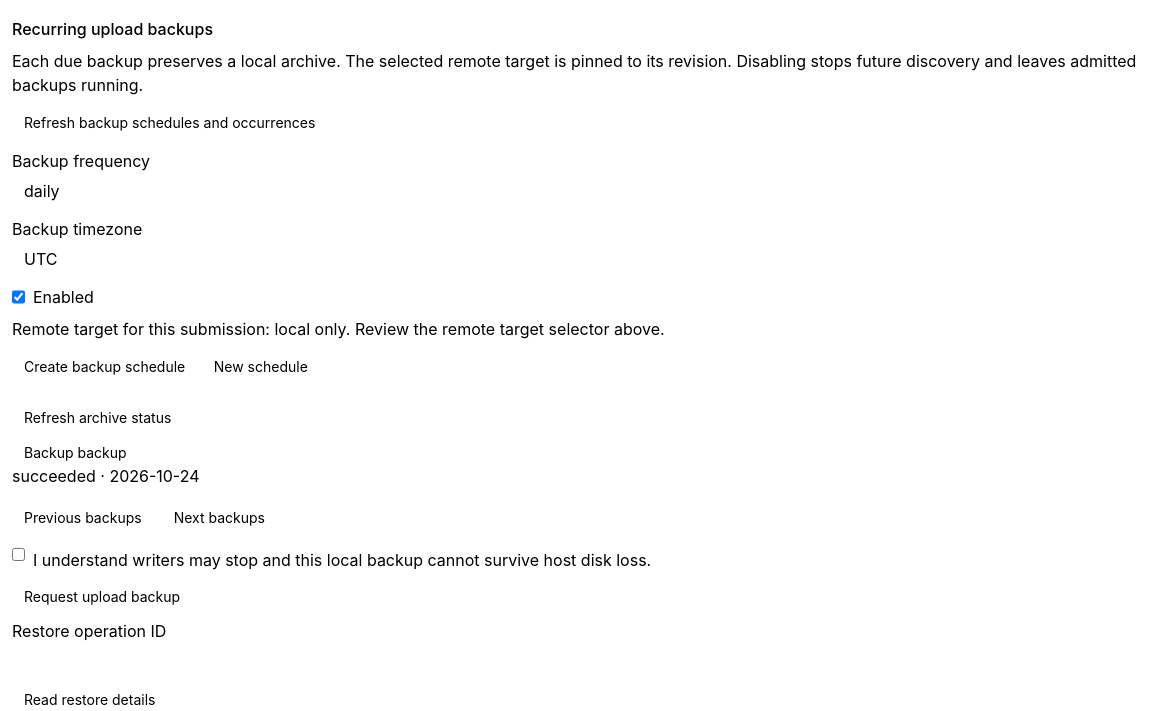
Test: owner explicitly consents to local backup; no mutation happens during reads
(page scrolled)
Check: the button "Backup backup" is shown, box x1=12 y1=443 x2=139 y2=463
Check: the button "Refresh archive status" is enabled, box x1=12 y1=408 x2=183 y2=428
Click the checkbox labelled "I understand writers may stop" at x=18, y=554, box x1=12 y1=548 x2=25 y2=561
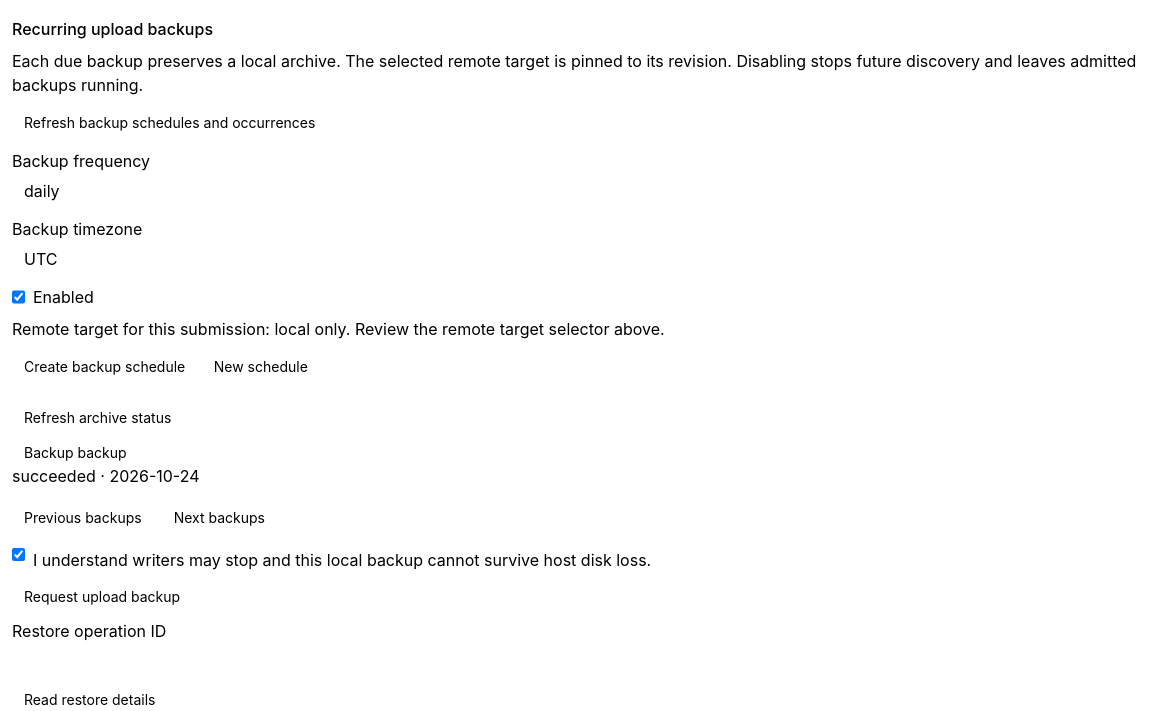
Click the button "Request upload backup" at x=102, y=597, box x1=12 y1=587 x2=192 y2=607
(page scrolled)
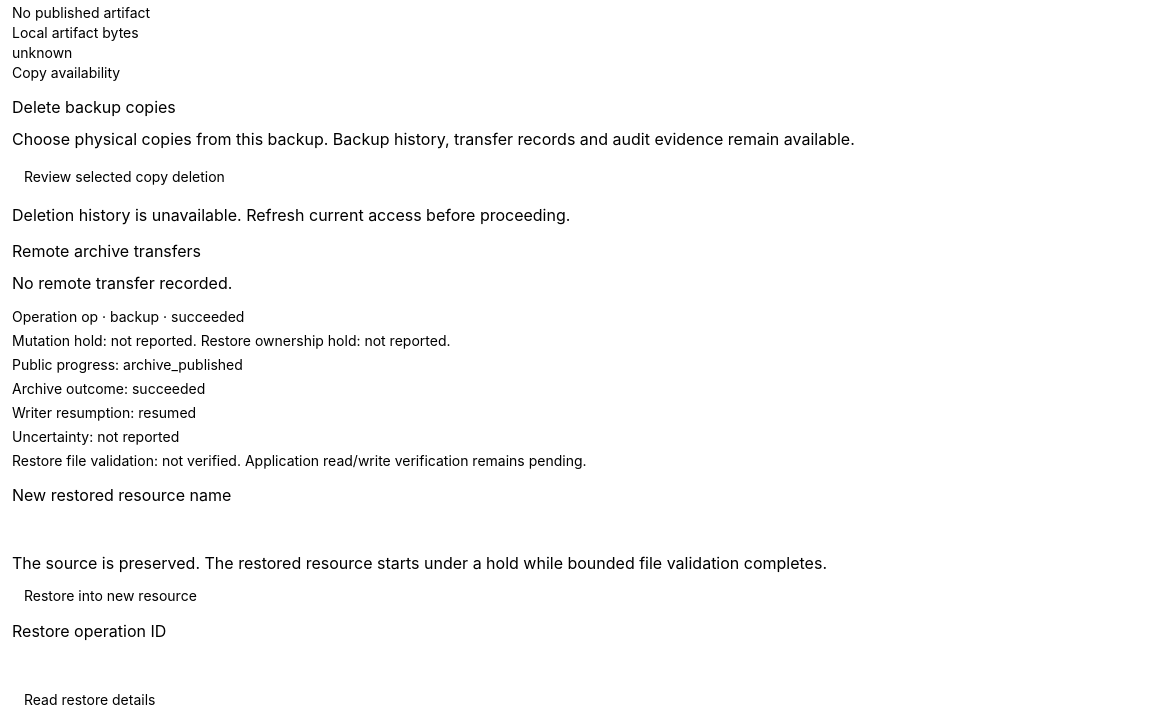
Check: the text "Archive outcome: succeeded" is shown, box x1=12 y1=380 x2=205 y2=397
Check: the text "Writer resumption: resumed" is shown, box x1=12 y1=404 x2=196 y2=421
